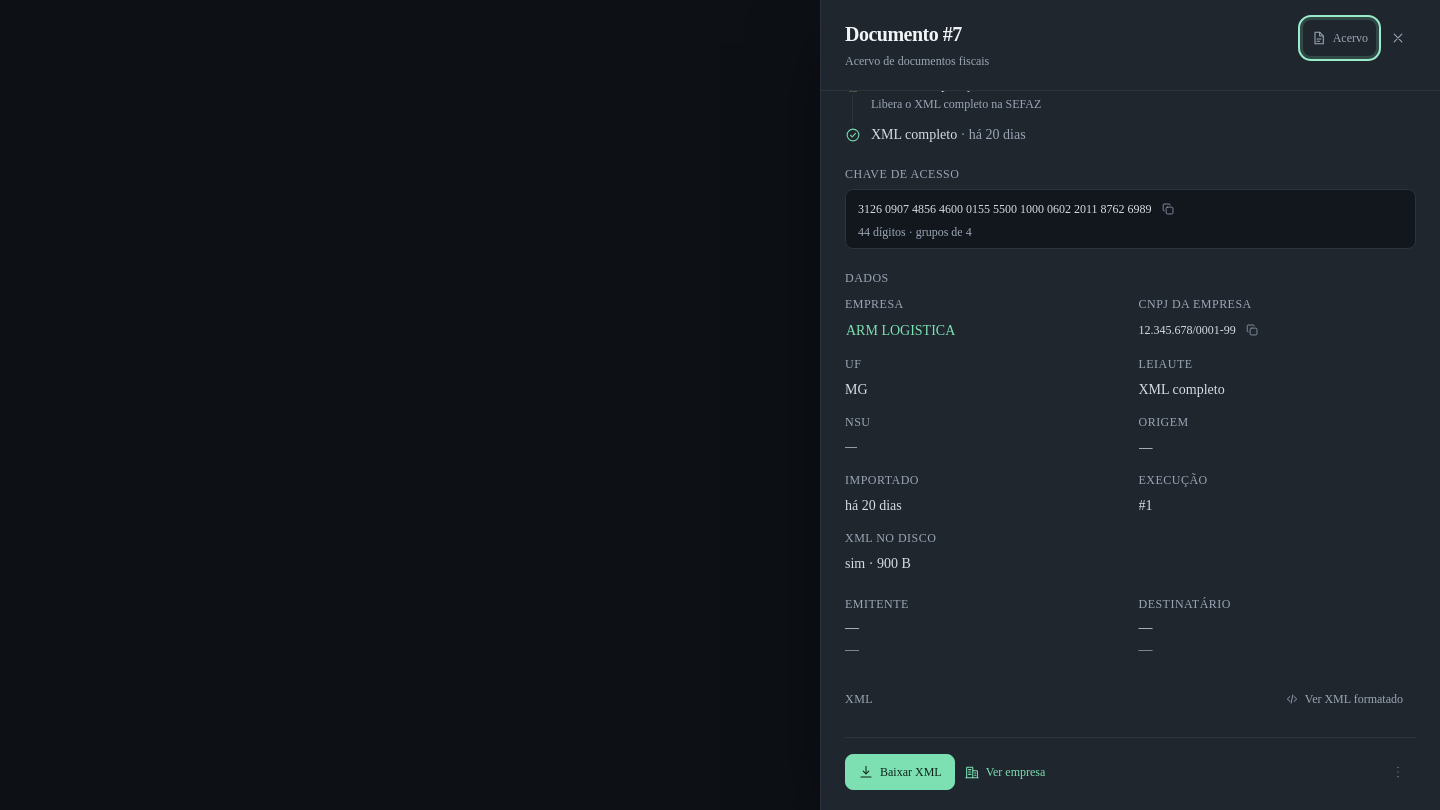
a ficha renderizada › excluir documento não fica ao lado do botão principal — só no menu
The image size is (1440, 810).
(page scrolled)
Check: the element showing "Baixar XML" is shown, box [845,754,955,790]
Check: the text "Excluir documento" is not shown
Click the button named "mais ações do documento". click: click(1398, 772)
box: [1380,754,1416,790]
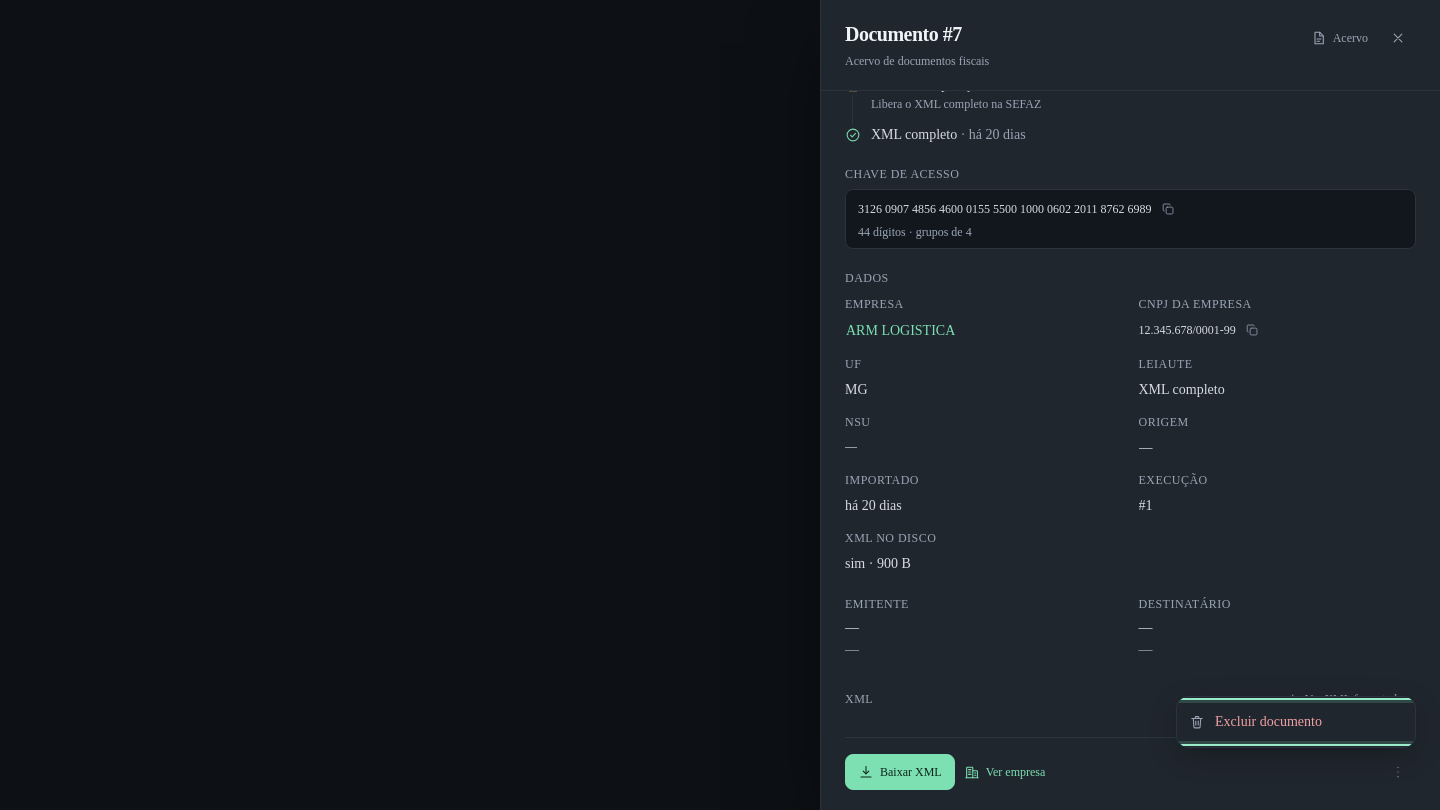
Check: the menu item "Excluir documento" is shown, box [1177,703,1415,741]
